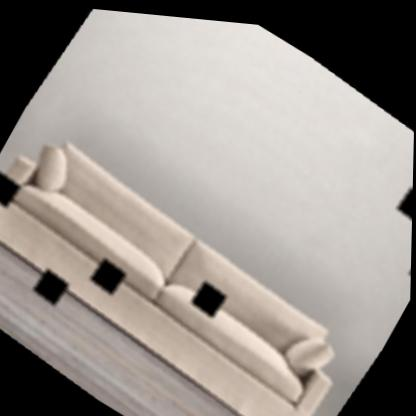Sofa: (0, 117, 368, 416)
